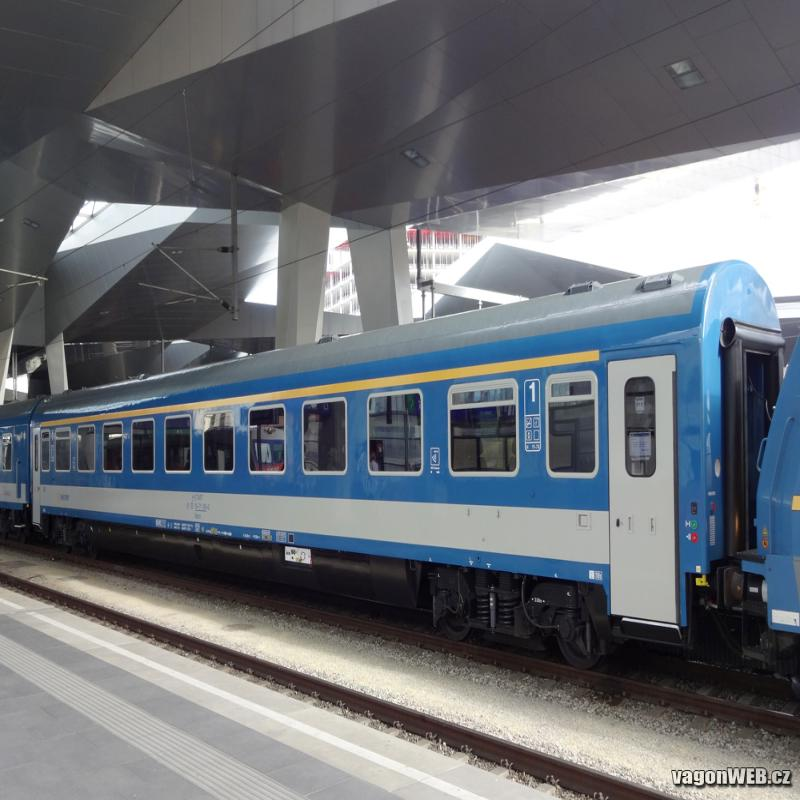train: (32, 265, 785, 694)
